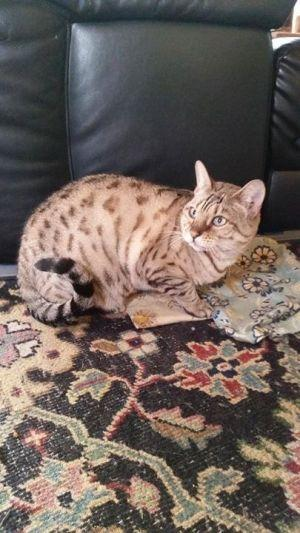bengal: (173, 149, 267, 262)
